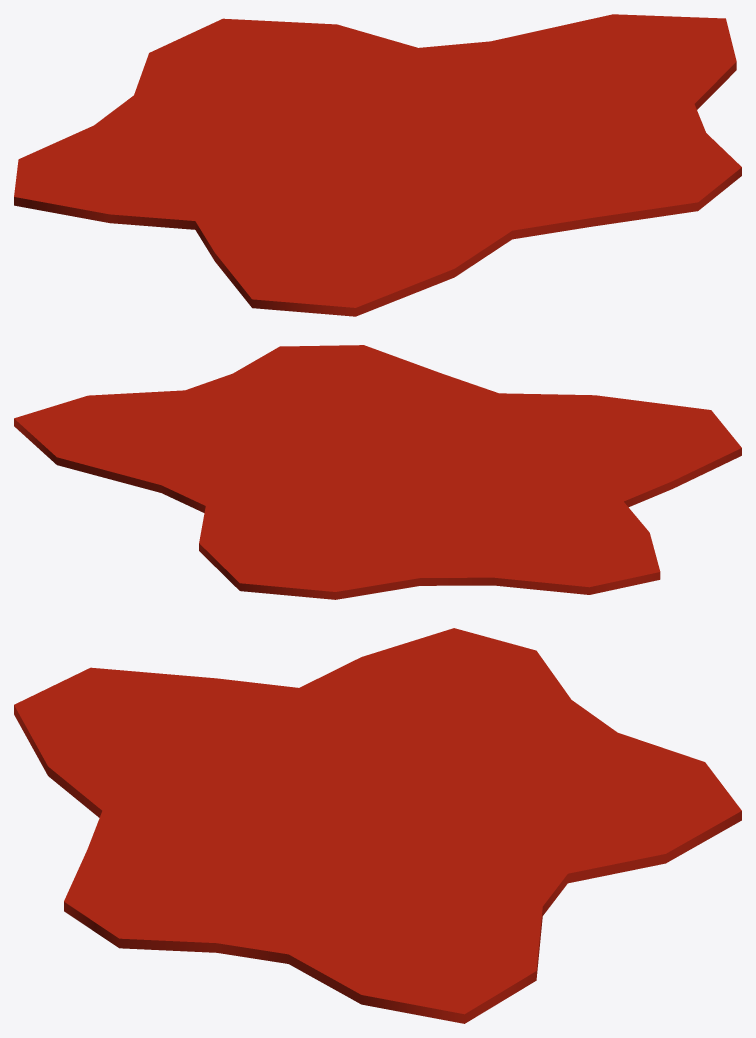
The model's file is tomato-splat-ground.glb.
The picture shows the model from 3 angles, top to bottom: view 1: azimuth 30°, elevation 25°; view 2: azimuth 150°, elevation 25°; view 3: azimuth 270°, elevation 25°; orthographic projection. The views are drawn at different scales.
Parts seen in each view (by area): view 1: tomato-splat-ground; view 2: tomato-splat-ground; view 3: tomato-splat-ground.
Part boxes in pixels (left/top/right/bottom): tomato-splat-ground: left=14, top=14, right=741, bottom=316; tomato-splat-ground: left=14, top=345, right=741, bottom=599; tomato-splat-ground: left=14, top=628, right=741, bottom=1023.
Bounding box in the file's own units: 0.343 × 0.004 × 0.2732.
1 material, 1 textured.
